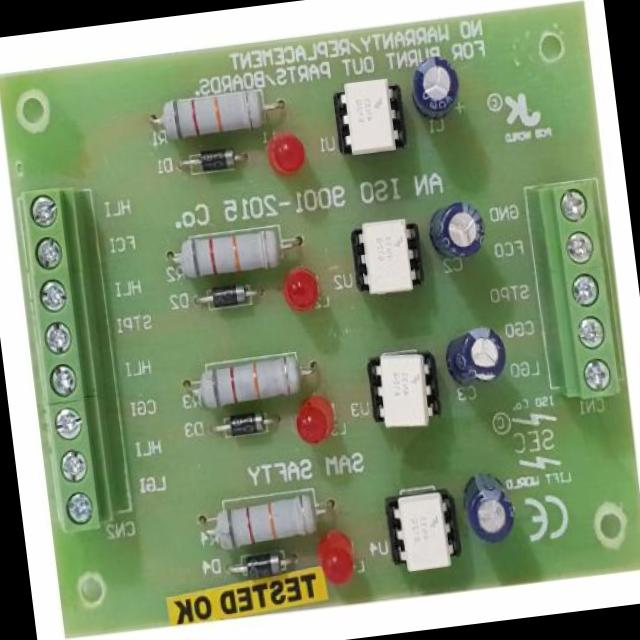IC: (382, 484, 458, 584), (327, 67, 412, 156), (364, 350, 444, 442), (352, 216, 423, 300)
LED: (257, 119, 314, 187), (288, 384, 338, 446), (314, 536, 361, 582), (282, 262, 322, 316)
capacitor: (446, 317, 516, 392), (403, 51, 463, 125), (431, 196, 493, 264), (466, 472, 519, 545)
connector: (10, 170, 133, 536), (522, 169, 628, 417)
diode: (219, 406, 275, 446), (232, 551, 294, 587), (204, 282, 258, 318), (188, 147, 243, 179)
resistor: (200, 476, 318, 558), (152, 82, 268, 149), (196, 348, 307, 412), (176, 223, 286, 282)
